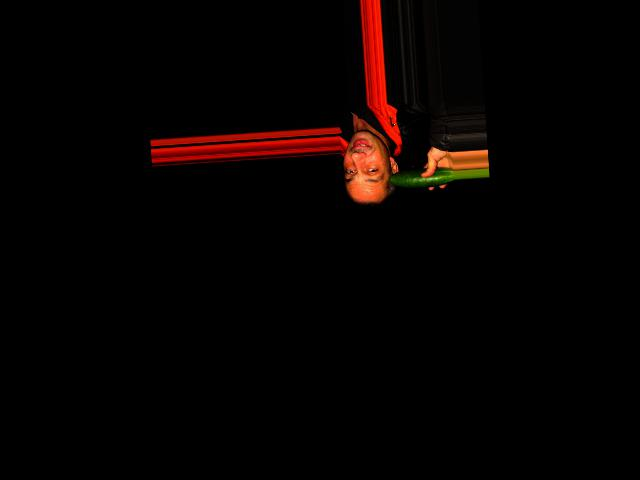cucumber: (387, 166, 454, 189)
